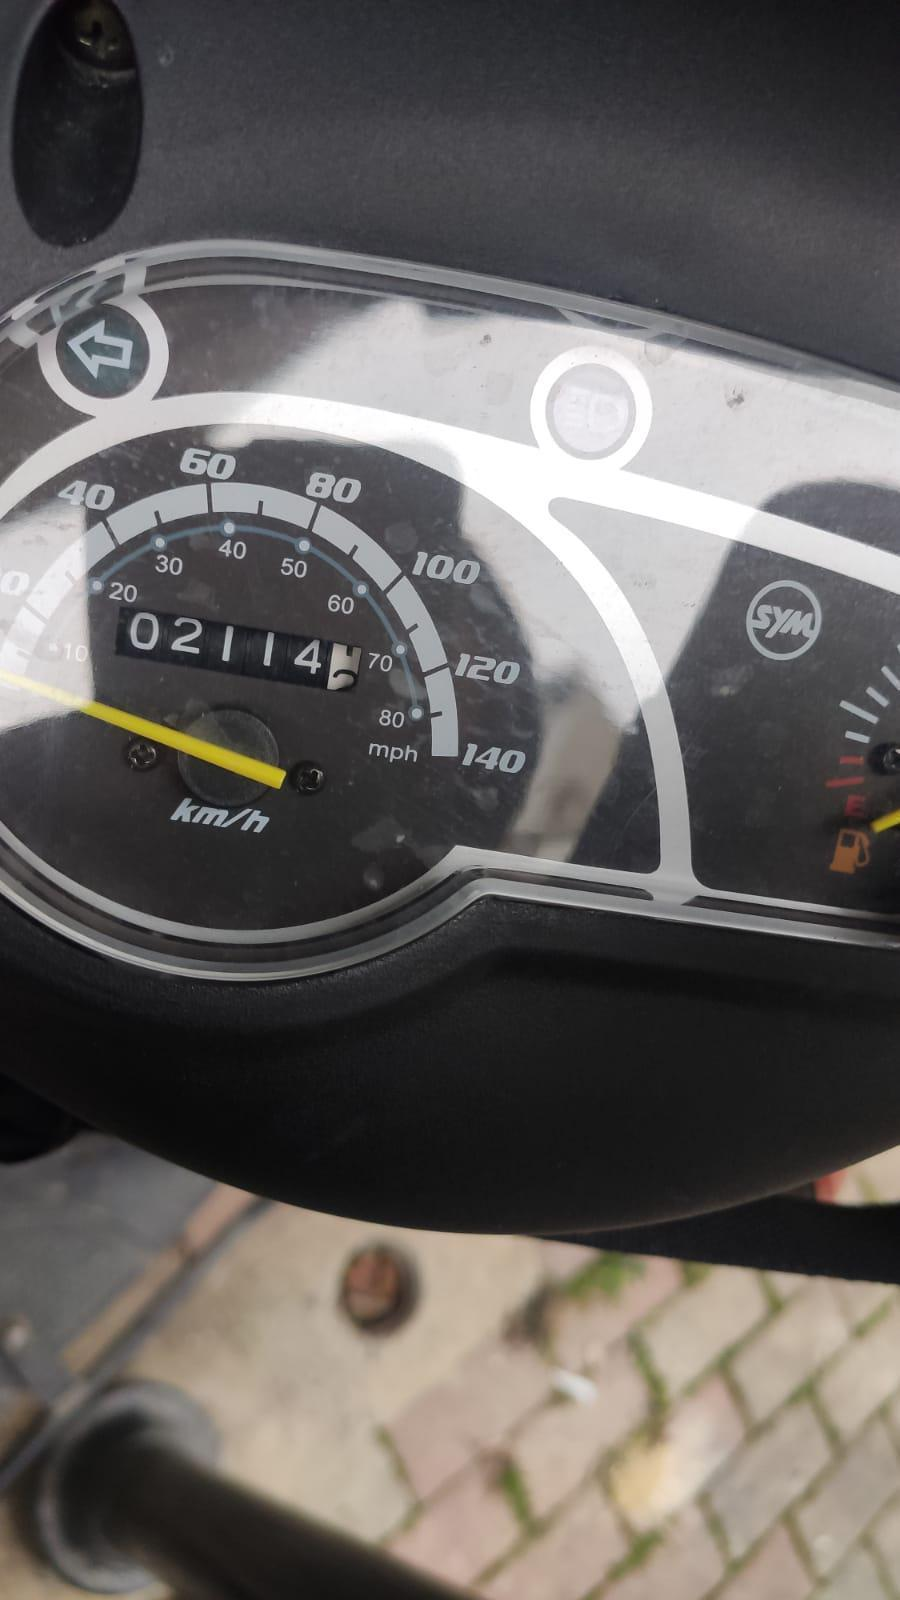0: (127, 610, 162, 652)
1: (215, 620, 237, 664), (262, 629, 277, 669)
2: (171, 614, 204, 656), (332, 664, 362, 695)
4: (293, 634, 325, 678)
odometer: (110, 607, 366, 698)
